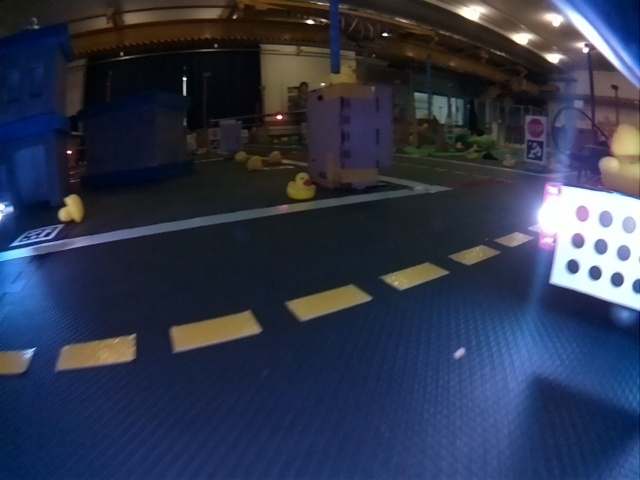Duckie: (600, 123, 635, 196), (286, 173, 316, 198), (60, 194, 84, 221), (247, 156, 259, 171), (502, 155, 516, 165), (268, 151, 280, 162)
Duckiebot: (539, 178, 638, 313)
QR code: (11, 225, 63, 243), (526, 142, 544, 161)
Stop sign: (526, 119, 545, 138)
